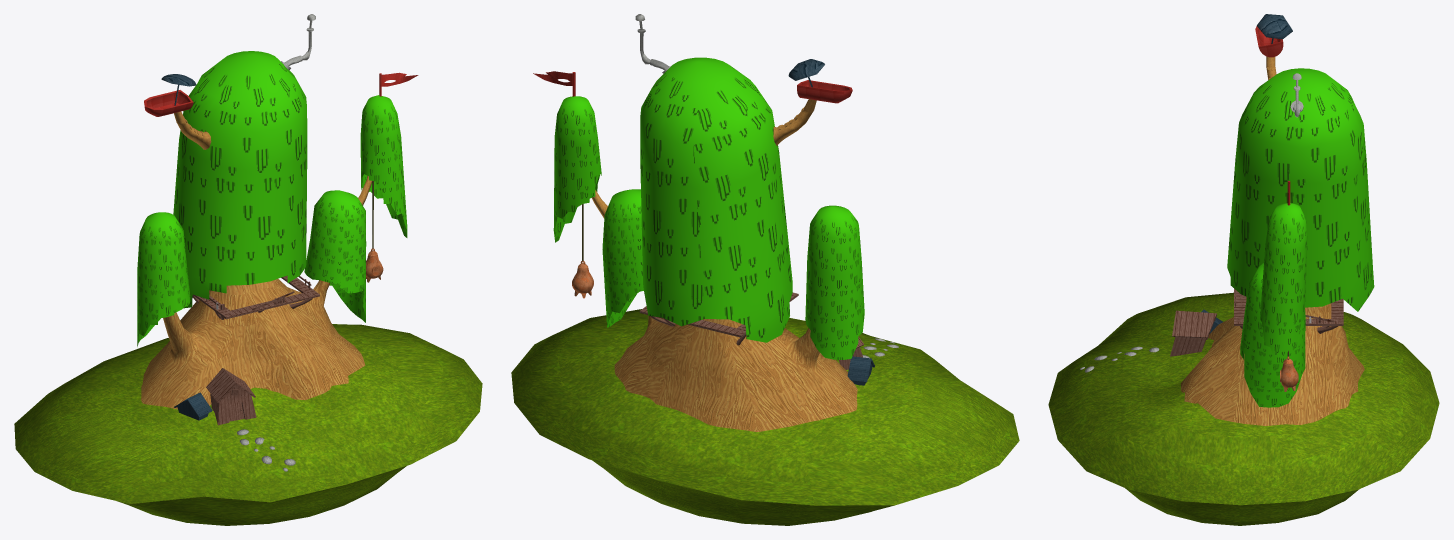
The model's file is casaArbol.obj.
3 renders of one model, left to right at view 1: azimuth 30°, elevation 25°; view 2: azimuth 150°, elevation 25°; view 3: azimuth 270°, elevation 25°, orthographic. The views are drawn at different scales.
Visible parts, largest first — view 1: land, Leaves, pCylinder5, Leaves2, Leaves1, Leaves3, pPlane3, pCube6, pCylinder17, pCube26, pCylinder6; view 2: land, Leaves, pCylinder5, Leaves1, Leaves3, Leaves2, pCylinder17, pCylinder6, pCube26, pCube6; view 3: land, Leaves, pCylinder5, Leaves3, Leaves2, pPlane3, pCube6, polySurface1, pCylinder17, Lantern.
Part boxes in pixels (x1=…): land: x1=14, y1=324, x2=482, y2=525; Leaves: x1=173, y1=51, x2=307, y2=308; pCylinder5: x1=141, y1=279, x2=365, y2=409; Leaves2: x1=304, y1=190, x2=366, y2=322; Leaves1: x1=137, y1=212, x2=190, y2=346; Leaves3: x1=360, y1=95, x2=407, y2=237; pPlane3: x1=206, y1=368, x2=256, y2=425; pCube6: x1=193, y1=275, x2=319, y2=319; pCylinder17: x1=144, y1=90, x2=193, y2=116; pCube26: x1=174, y1=392, x2=212, y2=420; pCylinder6: x1=174, y1=111, x2=211, y2=149; land: x1=511, y1=309, x2=1019, y2=525; Leaves: x1=640, y1=57, x2=792, y2=342; pCylinder5: x1=614, y1=315, x2=857, y2=431; Leaves1: x1=805, y1=205, x2=864, y2=359; Leaves3: x1=553, y1=96, x2=601, y2=242; Leaves2: x1=602, y1=189, x2=643, y2=327; pCylinder17: x1=797, y1=80, x2=852, y2=103; pCylinder6: x1=773, y1=99, x2=816, y2=145; pCube26: x1=847, y1=356, x2=874, y2=385; pCube6: x1=639, y1=292, x2=798, y2=337; land: x1=1048, y1=292, x2=1439, y2=525; Leaves: x1=1227, y1=68, x2=1374, y2=311; pCylinder5: x1=1181, y1=303, x2=1364, y2=425; Leaves3: x1=1260, y1=203, x2=1307, y2=362; Leaves2: x1=1240, y1=263, x2=1305, y2=407; pPlane3: x1=1170, y1=310, x2=1216, y2=356; pCube6: x1=1234, y1=288, x2=1343, y2=325; polySurface1: x1=1257, y1=14, x2=1292, y2=43; pCylinder17: x1=1255, y1=26, x2=1283, y2=57; Lantern: x1=1280, y1=356, x2=1298, y2=391.
Bounding box in the file's own units: 687 × 688 × 522.
